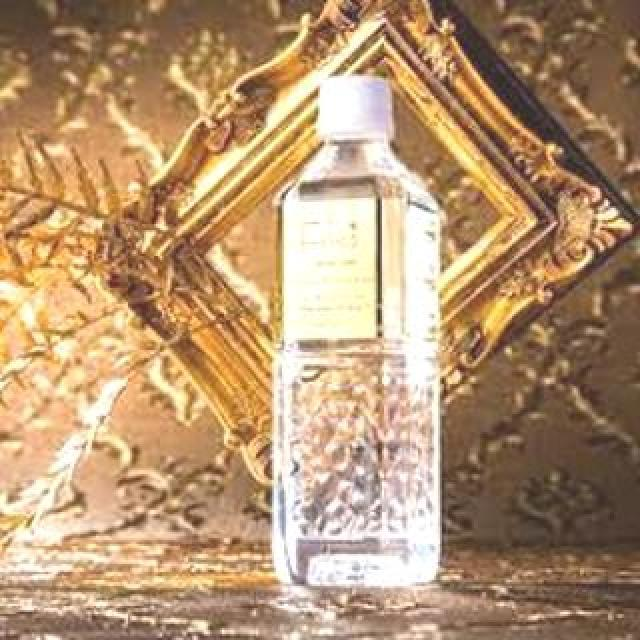Pet_Bottle: (263, 76, 463, 598)
